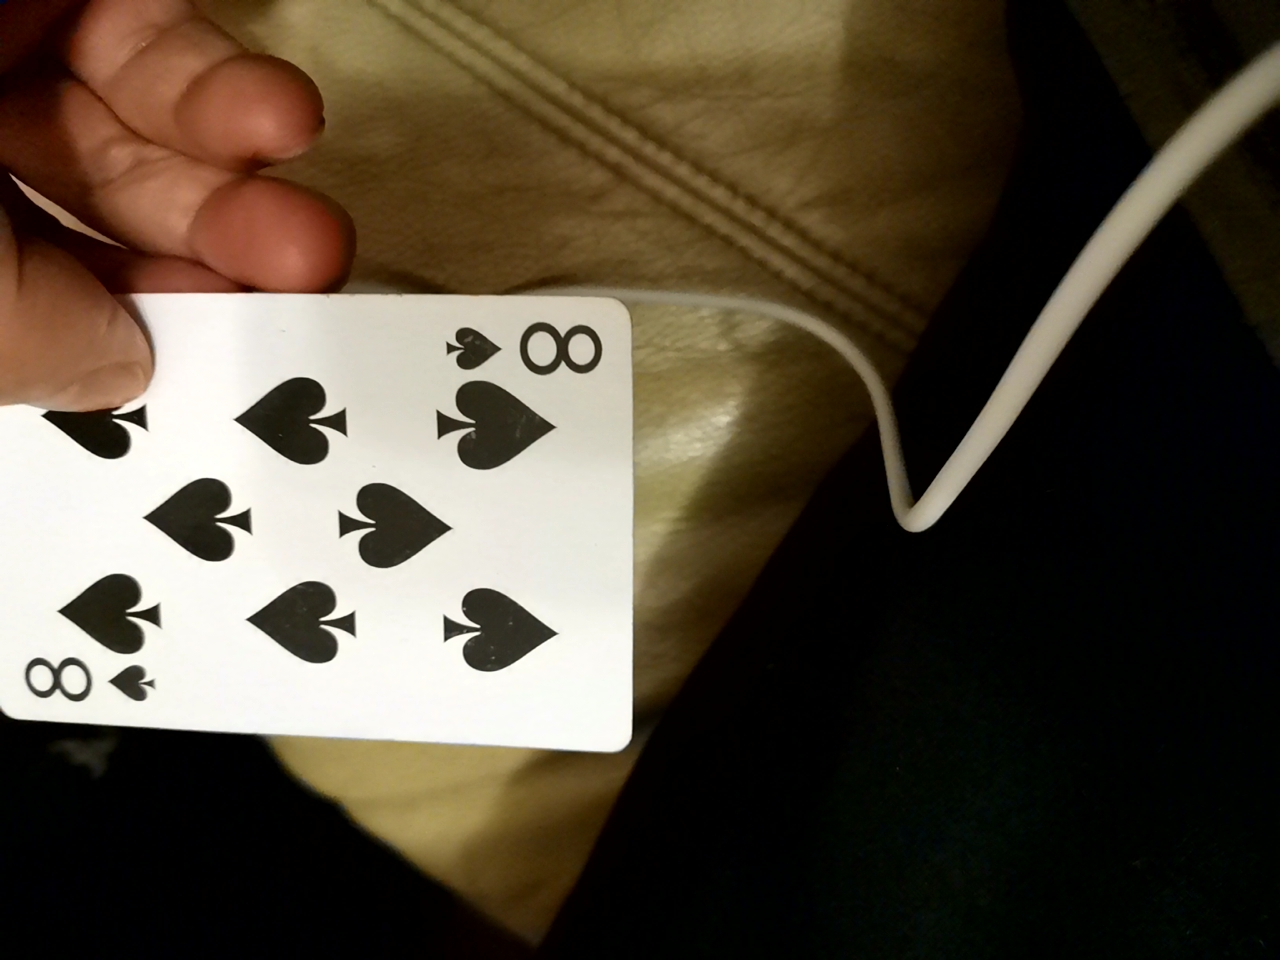ht 8: (0, 297, 641, 771)
